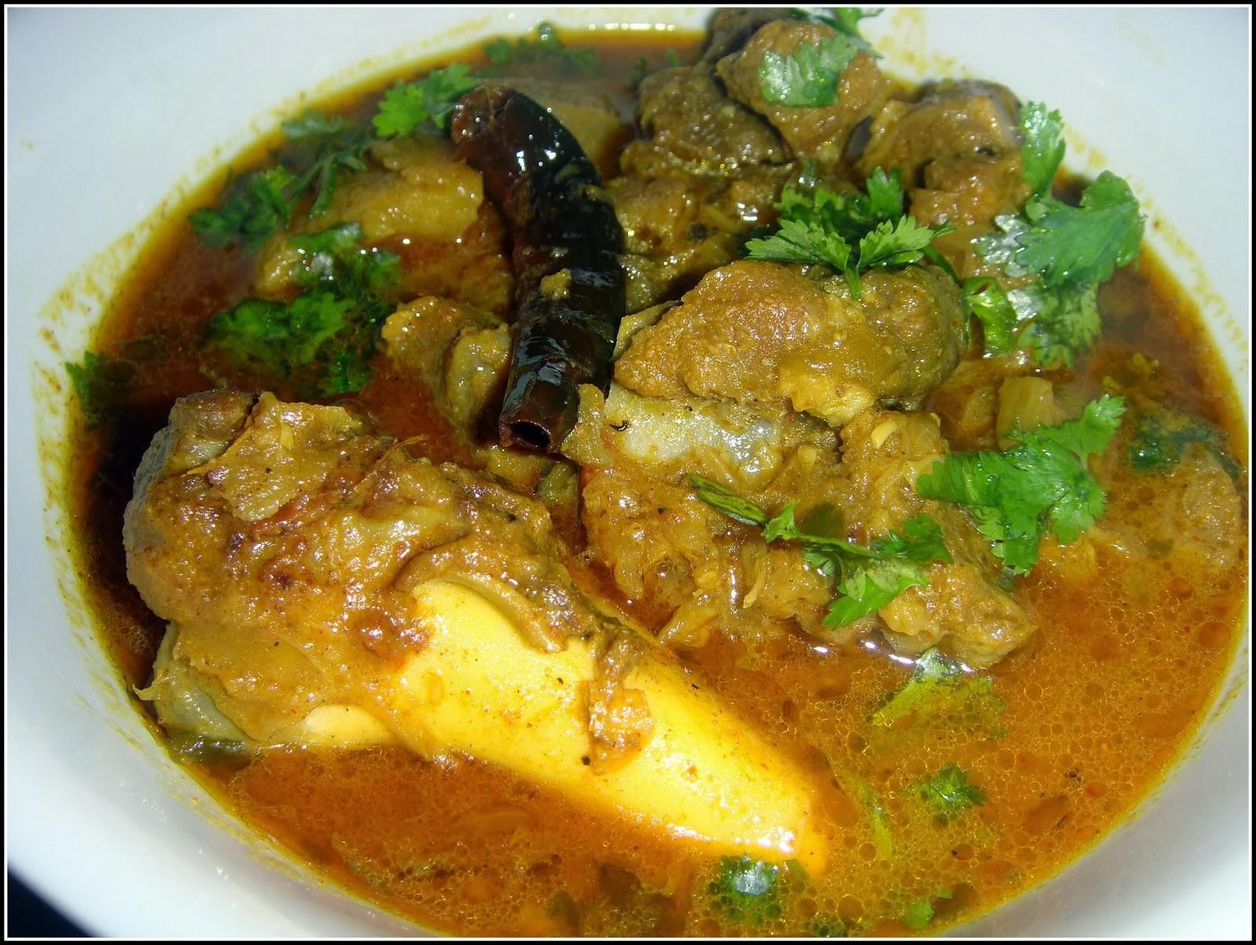MuttonCurry: (85, 0, 1256, 945)
